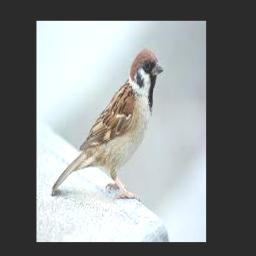Sparrow: (52, 48, 162, 199)
